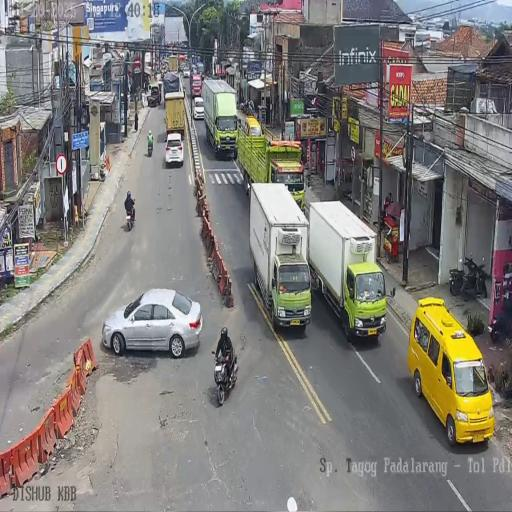car: (406, 298, 492, 444), (101, 288, 204, 358), (164, 132, 184, 166), (192, 96, 204, 119), (183, 67, 190, 78), (192, 64, 196, 75)
motorcycle: (450, 253, 486, 299), (212, 344, 238, 406), (490, 306, 512, 343), (126, 204, 136, 232), (147, 138, 153, 156)
truck: (308, 200, 382, 340), (248, 182, 308, 330), (201, 77, 238, 160), (190, 73, 203, 97), (167, 55, 178, 73), (144, 52, 151, 74), (178, 54, 187, 70), (196, 62, 204, 75)
